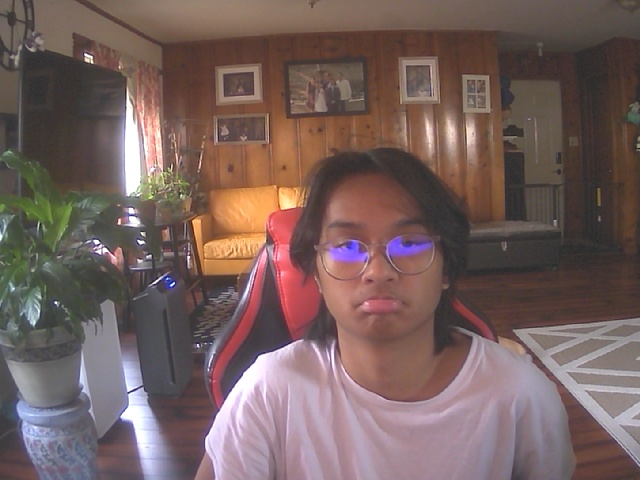sad: (307, 161, 457, 348)
